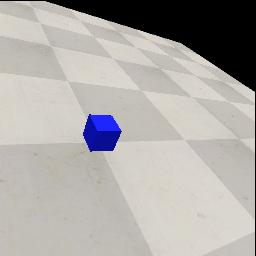box: (83, 114, 122, 152)
